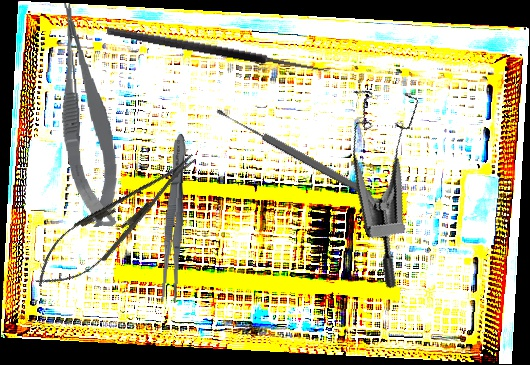Dressing Forceps: (158, 133, 191, 305)
Hook Surgical: (105, 15, 334, 76)
Micro Scissor: (53, 0, 122, 229)
Needle Holder: (22, 138, 211, 304)
Speculum: (318, 70, 476, 292)
Surgical Spoon: (214, 105, 375, 201)
